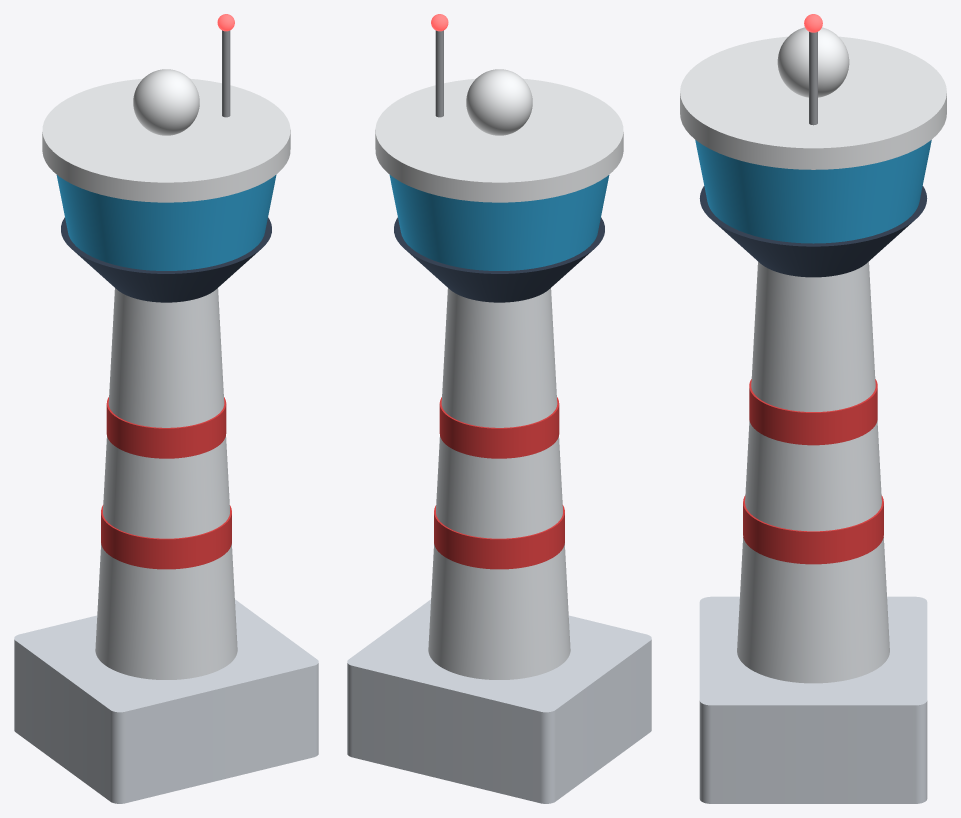
The model's file is control_tower.glb.
The picture shows the model from 3 angles, left to right: view 1: azimuth 30°, elevation 25°; view 2: azimuth 150°, elevation 25°; view 3: azimuth 270°, elevation 25°; orthographic projection. The views are drawn at different scales.
Visible parts, largest first — view 1: atc_shaft, atc_base, atc_roof, atc_cab, atc_deck, atc_band_0, atc_band_1, radome, mast; view 2: atc_shaft, atc_base, atc_roof, atc_cab, atc_deck, atc_band_0, atc_band_1, radome, mast; view 3: atc_shaft, atc_base, atc_roof, atc_cab, atc_deck, atc_band_0, atc_band_1, radome, mast.
Part boxes in pixels (x1,y1,x2,y2): atc_shaft: (95,288,237,679); atc_base: (14,599,318,803); atc_roof: (42,78,290,202); atc_cab: (56,174,276,270); atc_deck: (61,217,271,302); atc_band_0: (101,505,231,569); atc_band_1: (106,397,226,458); radome: (133,69,199,135); mast: (222,30,230,117); atc_shaft: (428,288,570,679); atc_base: (347,599,651,803); atc_roof: (375,78,623,202); atc_cab: (389,174,609,270); atc_deck: (394,217,604,302); atc_band_0: (434,505,564,569); atc_band_1: (439,397,559,458); radome: (466,69,532,135); mast: (435,30,443,117); atc_shaft: (737,261,889,683); atc_base: (699,596,927,803); atc_roof: (680,36,946,169); atc_cab: (695,140,931,243); atc_deck: (699,186,927,277); atc_band_0: (743,495,883,564); atc_band_1: (749,379,877,445); radome: (777,27,849,97); mast: (809,32,817,125).
Bounding box in the file's own units: 0.54 × 1.71 × 0.54.
